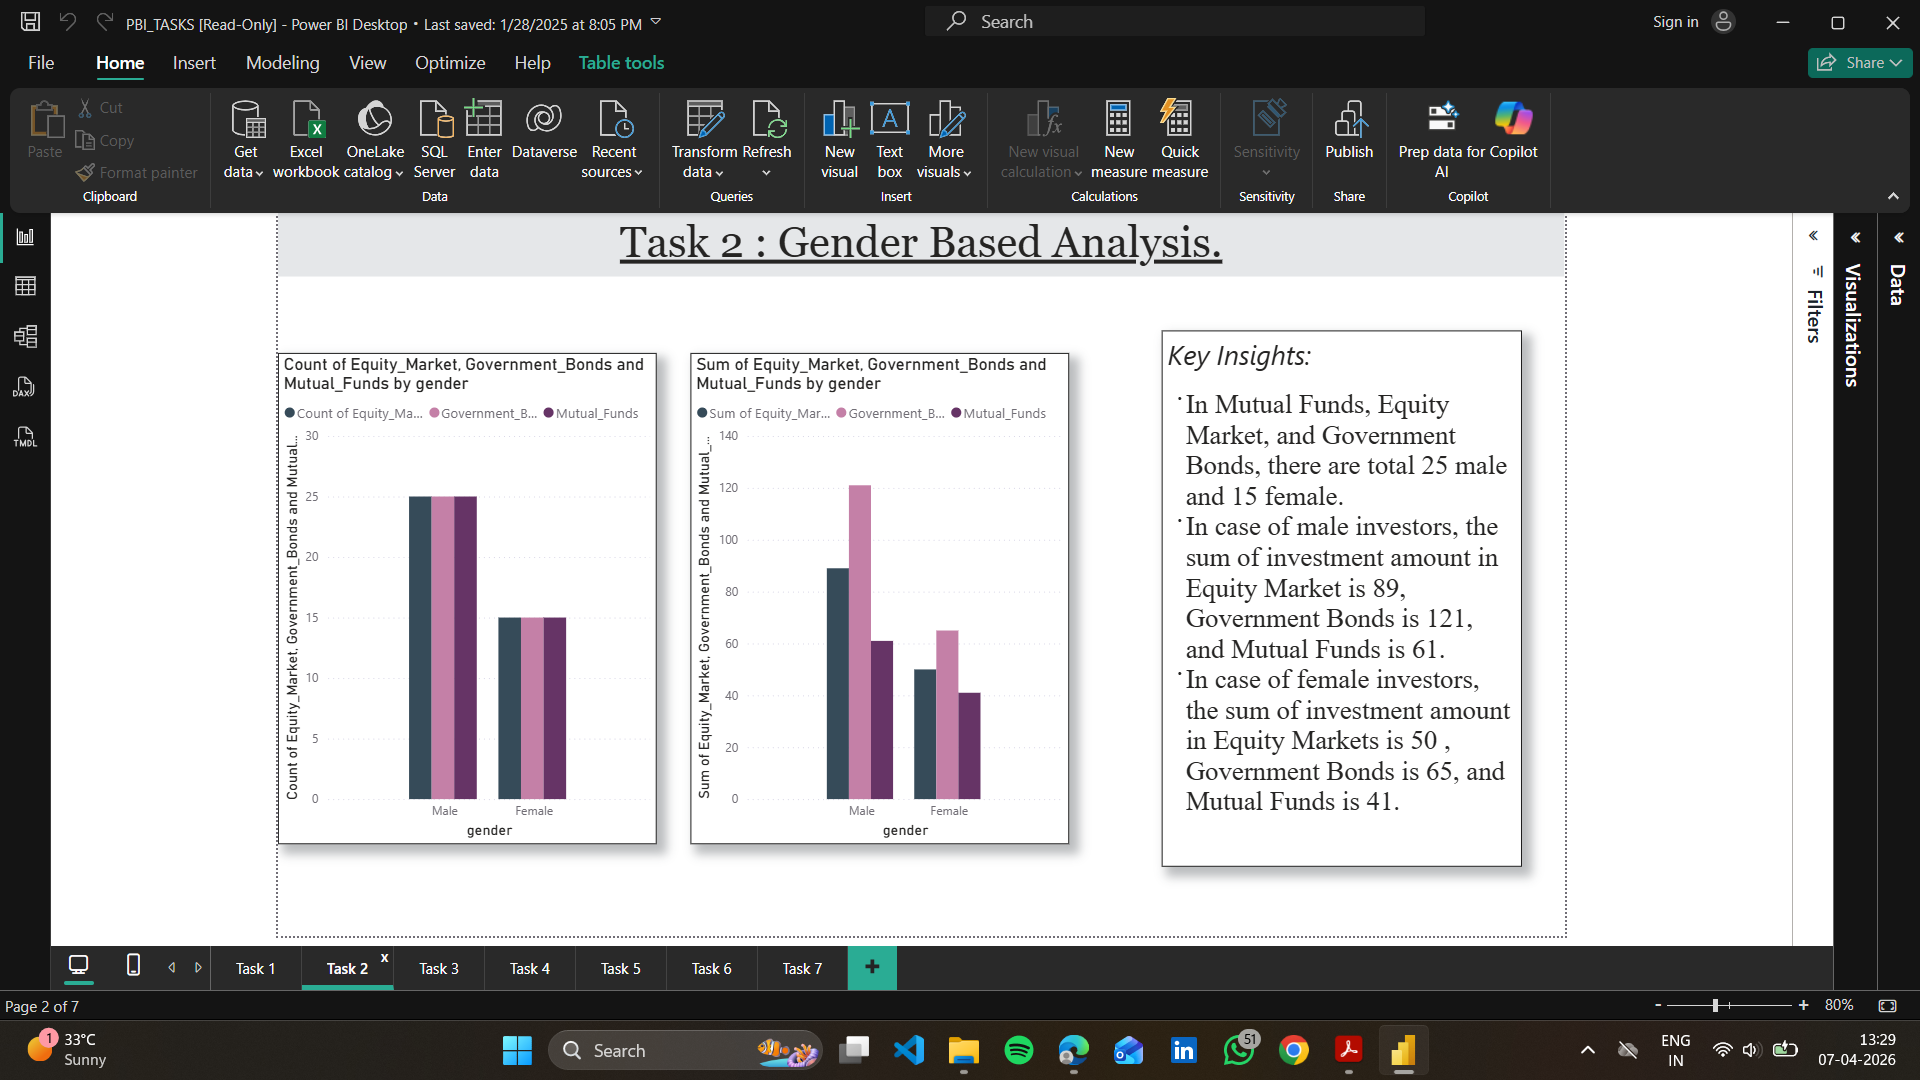

What the dashboard file says about the page in this screenshot:
{"tool":"powerbi","page":{"name":"Task 2","canvas":[1280,720],"ordinal":1},"visuals":[{"type":"textbox","box":[0,0,1280,63.4],"z":0},{"type":"clusteredColumnChart","fields":{"Category":["Data_set 2.gender"],"Y":["CountNonNull(Data_set 2.Equity_Market)","CountNonNull(Data_set 2.Government_Bonds)","CountNonNull(Data_set 2.Mutual_Funds)"]},"box":[0,139.3,376.9,488.9],"z":1000},{"type":"clusteredColumnChart","fields":{"Category":["Data_set 2.gender"],"Y":["Sum(Data_set 2.Equity_Market)","Sum(Data_set 2.Government_Bonds)","Sum(Data_set 2.Mutual_Funds)"]},"box":[410.5,139.3,376.9,488.9],"z":2000},{"type":"textbox","box":[879.5,116.9,358.3,533.7],"z":3000}]}

Visuals, with their boxes on the page's 1280x720 design canvas (x1, y1, x2, y2). These are canvas units, not pixel positions in the 1920x1080 screenshot, which may show the page scaled, cropped or inside an application window:
textbox: bbox=[0, 0, 1280, 63]
clusteredColumnChart - Data_set 2.gender x CountNonNull(Data_set 2.Equity_Market): bbox=[0, 139, 377, 628]
clusteredColumnChart - Data_set 2.gender x Sum(Data_set 2.Equity_Market): bbox=[410, 139, 787, 628]
textbox: bbox=[880, 117, 1238, 651]
